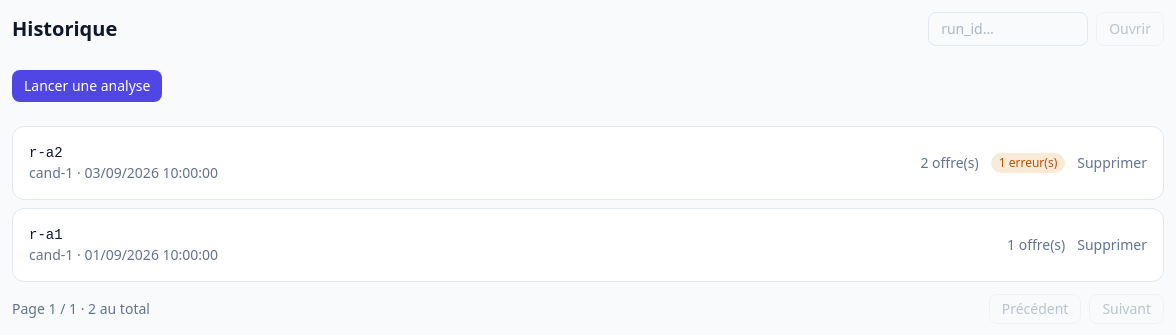
Test: RunsListPage › supprime un run après confirmation explicite (reviewer)
Expected: the text "r-a2" is shown, [29,145,63,161]
Note: Premier clic : demande de confirmation (ne supprime pas).
Click the button with aria-label "Supprimer le run r-a2" at [1112, 163], box [1077,153,1147,173]
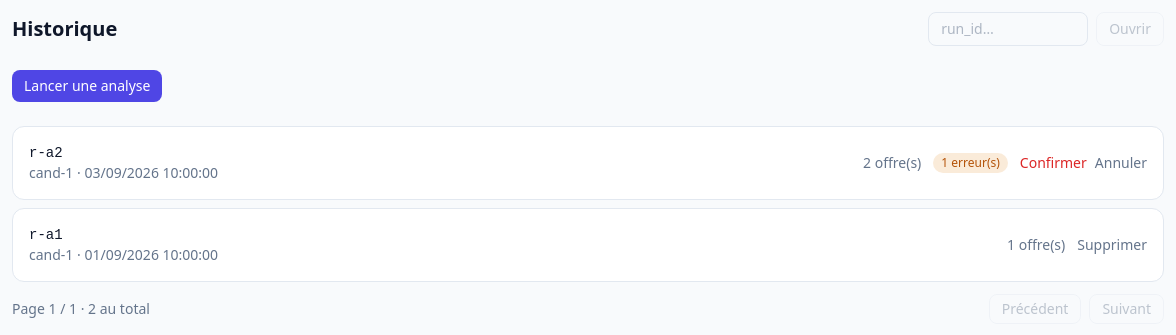
Note: Confirmation explicite → DELETE → la ligne disparaît après invalidation.
Click the button "Confirmer" at [1053, 163], box [1020,153,1087,173]
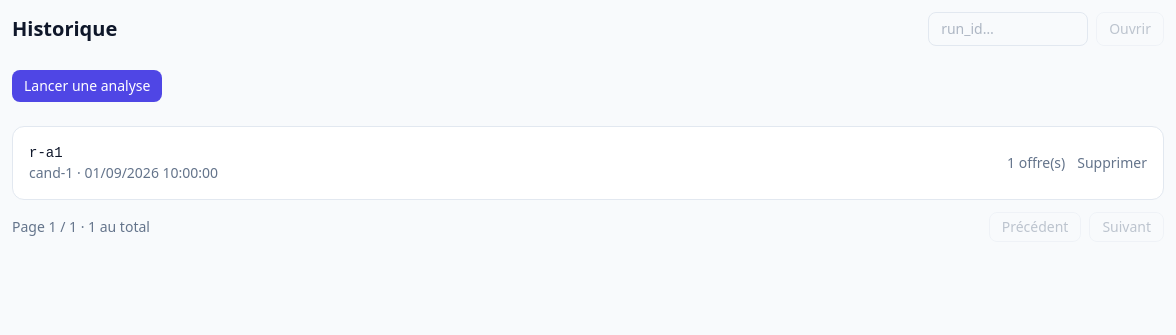
Expected: the text "r-a1" is shown, [29,145,63,161]
Result: the link "r-a2" is gone
